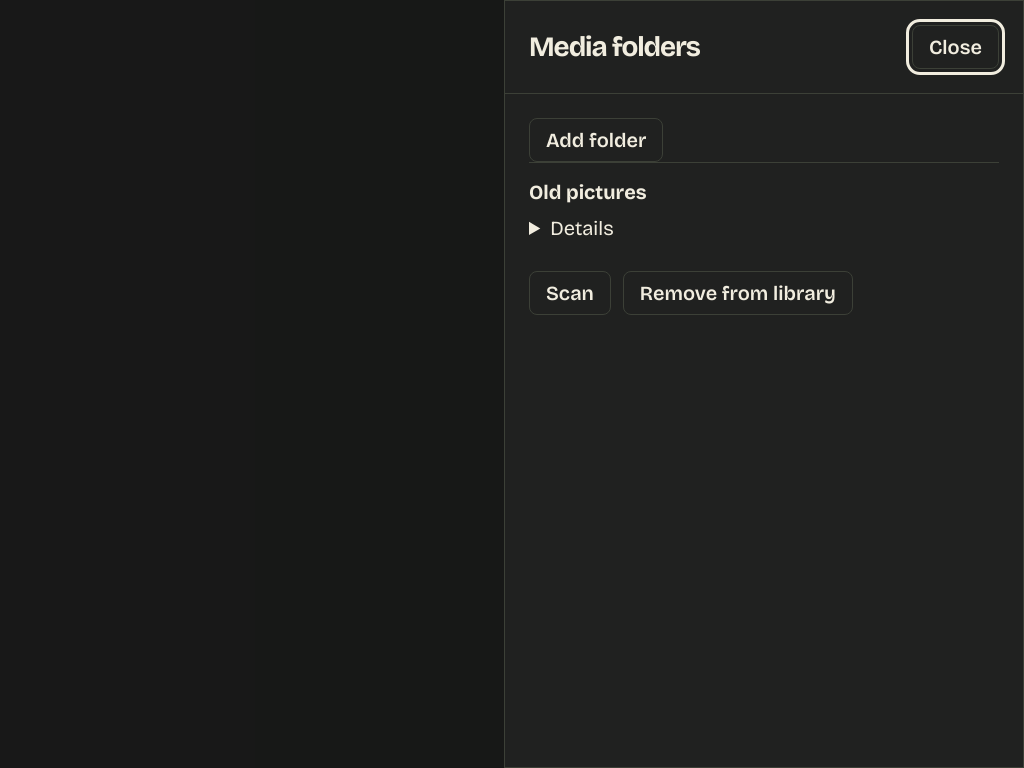
Scenario: offers a list retry when a failed scan refresh supersedes the add refresh
What coordinates should you click on to do the following:
click the button with aria-label "Scan Old pictures"
I would click on:
 (570, 293)
Its box is [529,271,611,315].
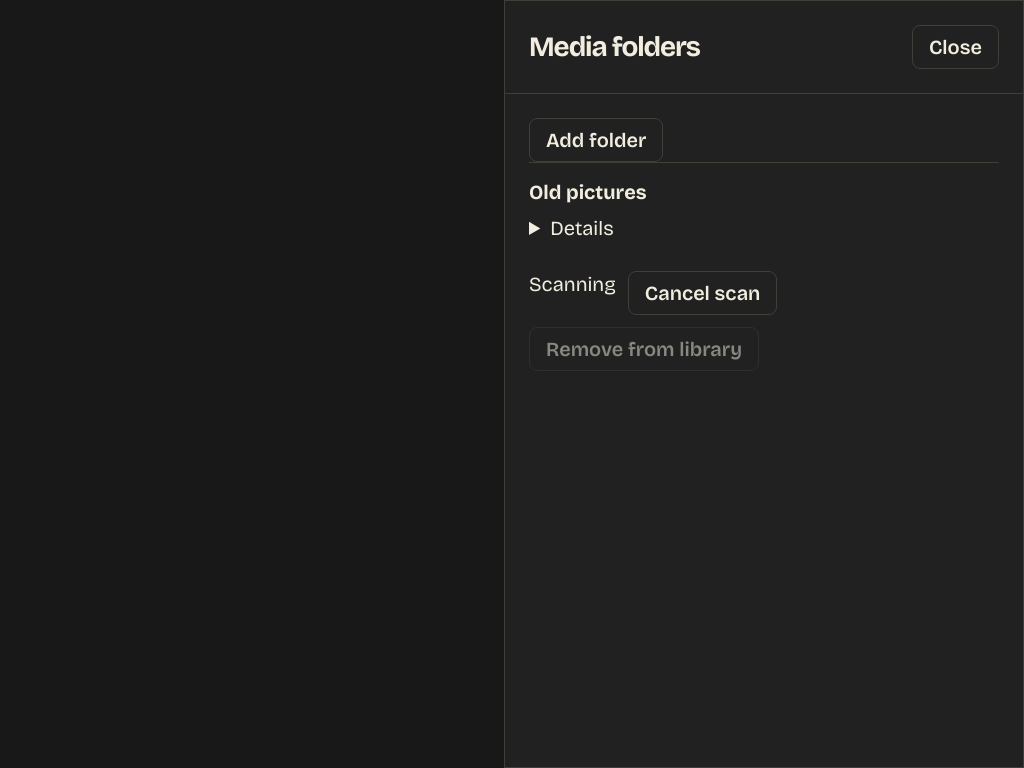
What coordinates should you click on to do the following:
click the button "Add folder"
I would click on:
 (596, 140)
Its box is [529,118,663,162].
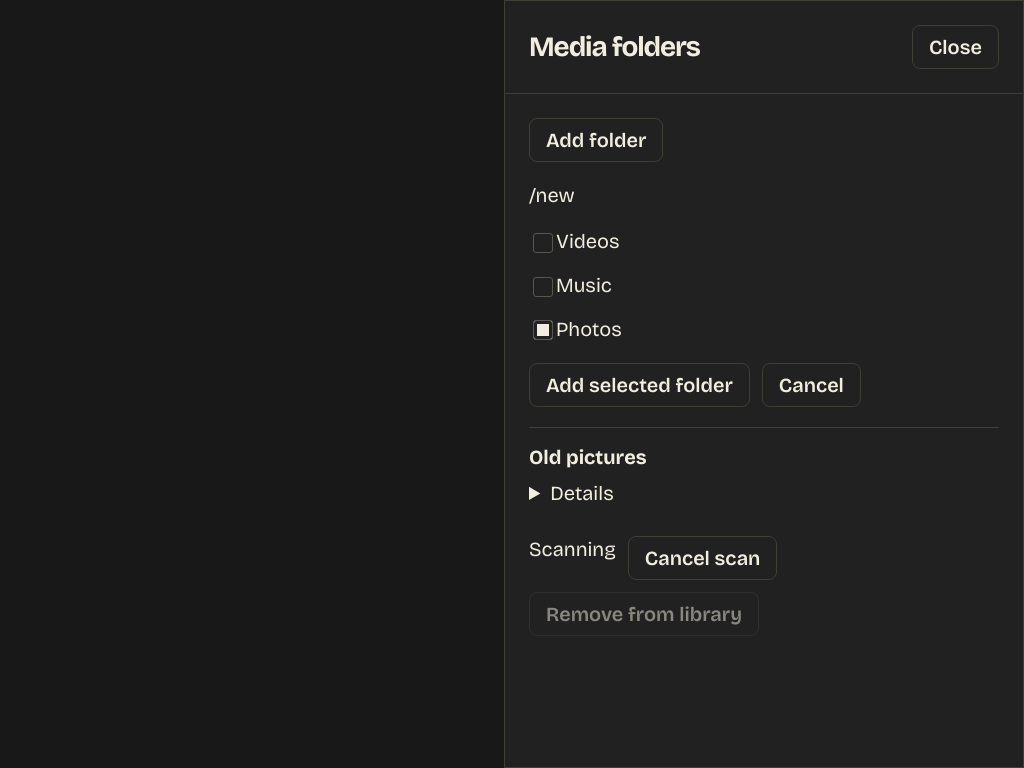
What coordinates should you click on to do the following:
click the button "Add selected folder"
I would click on:
 (639, 386)
Its box is [529,364,750,408].
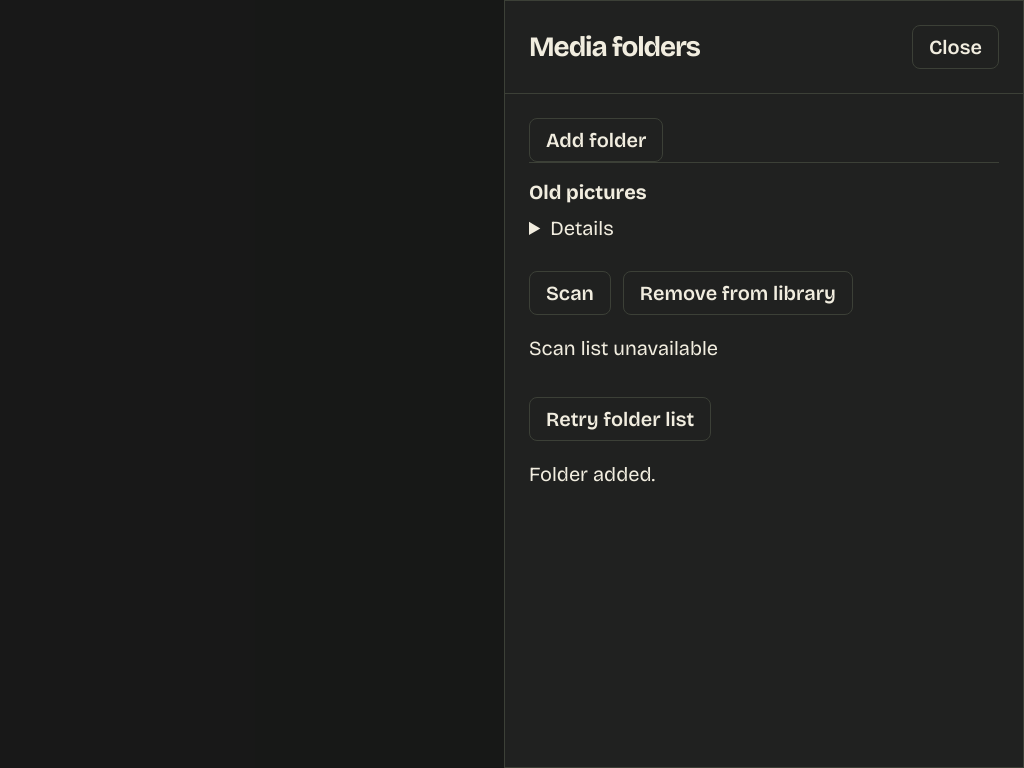
Expected: the message "Scan list unavailable" is shown, [529,336,718,360]
What coordinates should you click on to do the following:
click the button "Retry folder list"
I would click on:
 (620, 419)
Its box is [529,397,711,441].
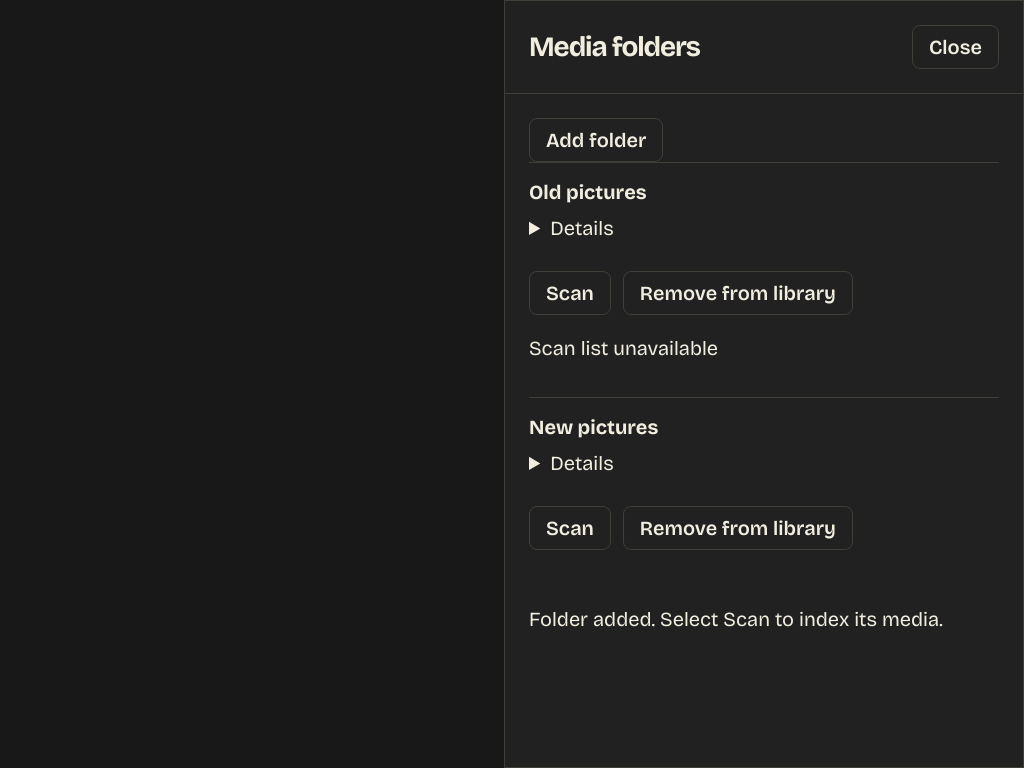
Expected: the message "Scan list unavailable" is shown, [529,336,718,360]
Expected: the button with aria-label "Scan New pictures" is shown, [529,506,611,550]
